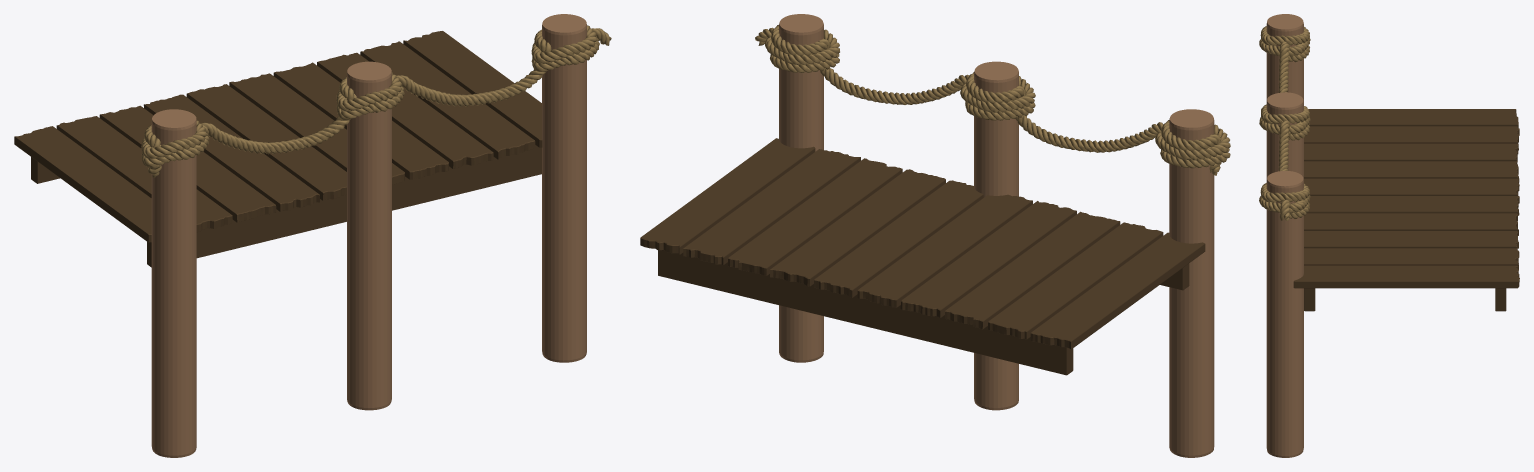
The model's file is dock_part.fbx.
The picture shows the model from 3 angles, left to right: view 1: azimuth 30°, elevation 25°; view 2: azimuth 150°, elevation 25°; view 3: azimuth 270°, elevation 25°; orthographic projection. The views are drawn at different scales.
Visible parts, largest first — view 1: Cube, Cylinder; view 2: Cube, Cylinder; view 3: Cube, Cylinder.
Part boxes in pixels (box(x1,y1,x2,y2)): Cube: box(14, 31, 542, 267); Cylinder: box(141, 14, 611, 457); Cube: box(640, 138, 1205, 375); Cylinder: box(755, 14, 1230, 457); Cube: box(1293, 109, 1519, 311); Cylinder: box(1259, 14, 1310, 457).
Size of the model in its own units: 597 by 400 by 348.
